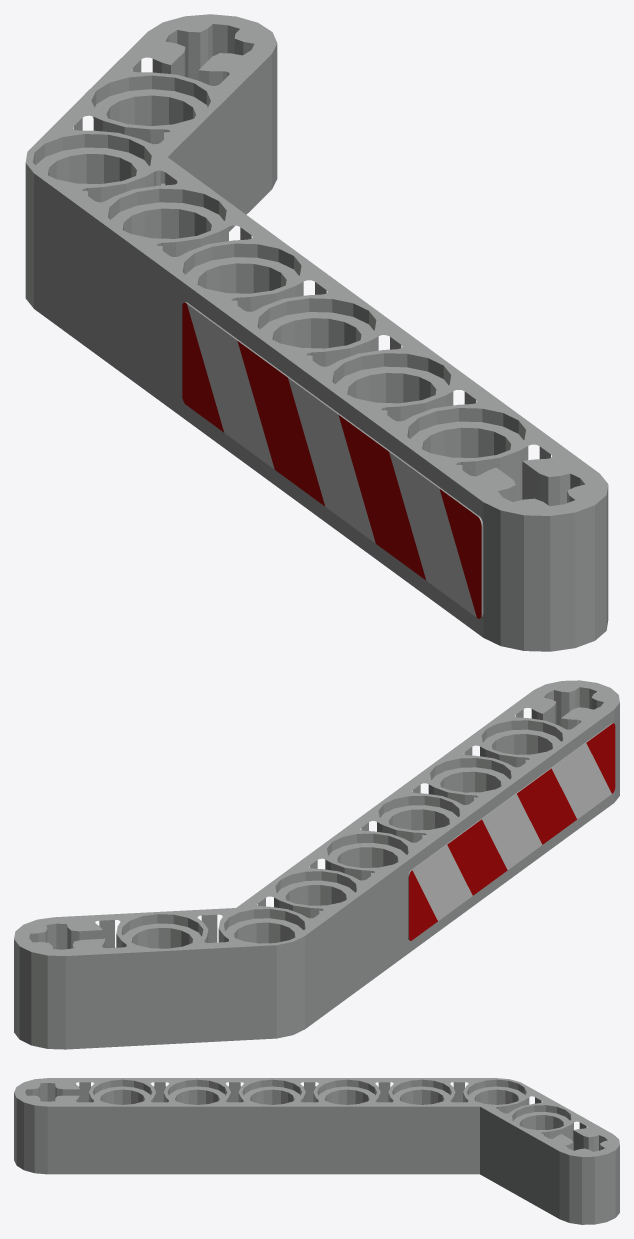
3 views of the same model, one above another, from view 1: azimuth 30°, elevation 25°; view 2: azimuth 150°, elevation 25°; view 3: azimuth 270°, elevation 25° (orthographic). The views are drawn at different scales.
Parts seen in each view (by area): view 1: world; view 2: world; view 3: world.
Part boxes in pixels (x1=…): world: x1=25, y1=14, x2=608, y2=651; world: x1=14, y1=680, x2=619, y2=1049; world: x1=14, y1=1078, x2=619, y2=1224.
Bounding box in the file's own units: 0.0201 × 0.008 × 0.0648.
